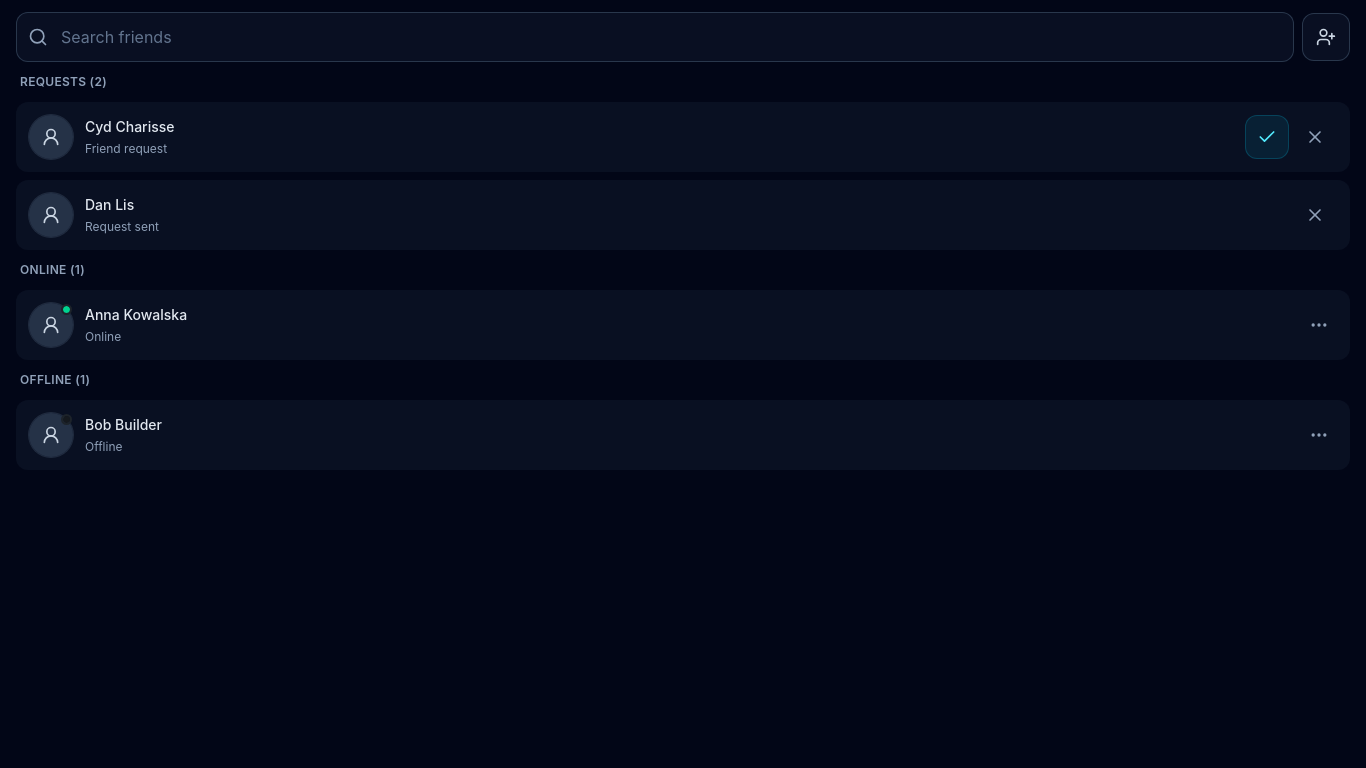
it: Friends panel › opens a chat from a friend row and removes a friend from its actions
Click the button with aria-label "Bob Builder, offline": x=51, y=435 17,401 -> 1293,469
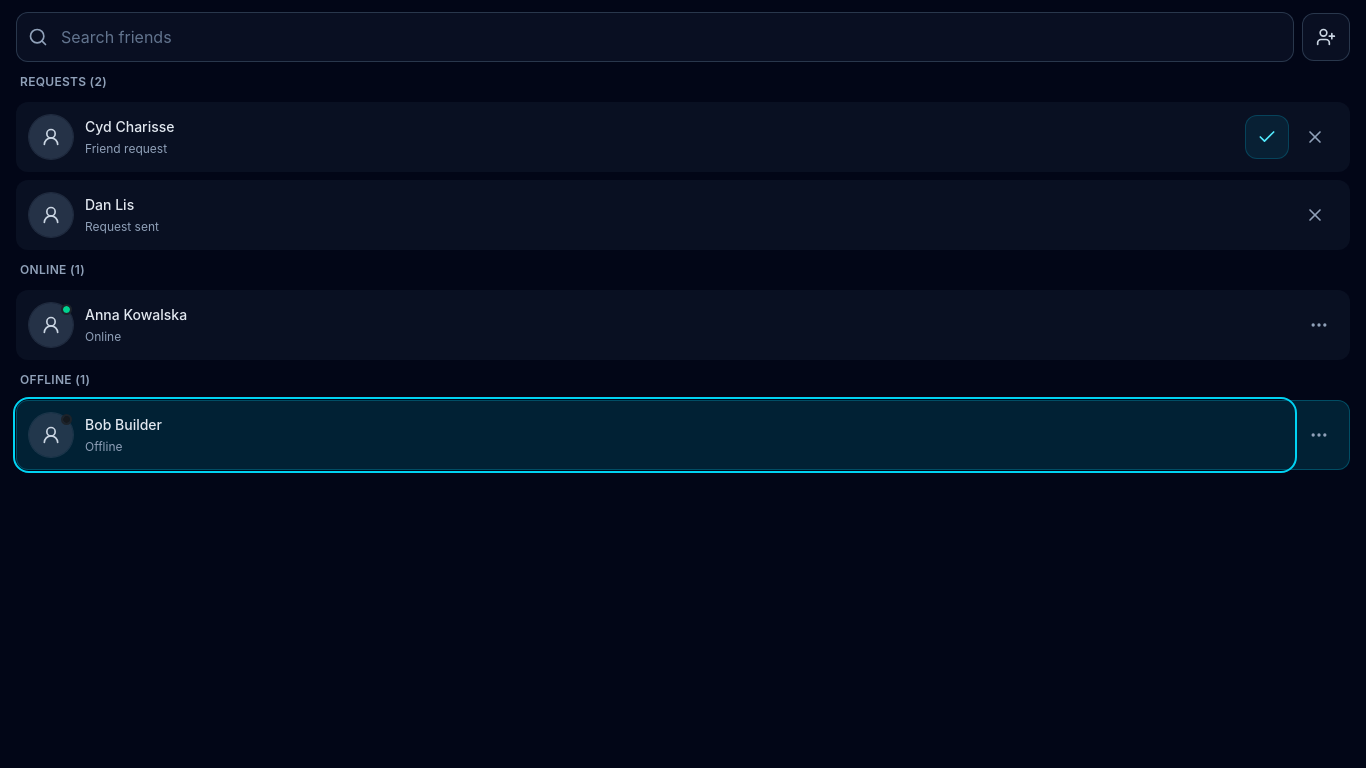
Click the button named "More actions for Bob Builder": x=1319, y=435 1297,413 -> 1341,457
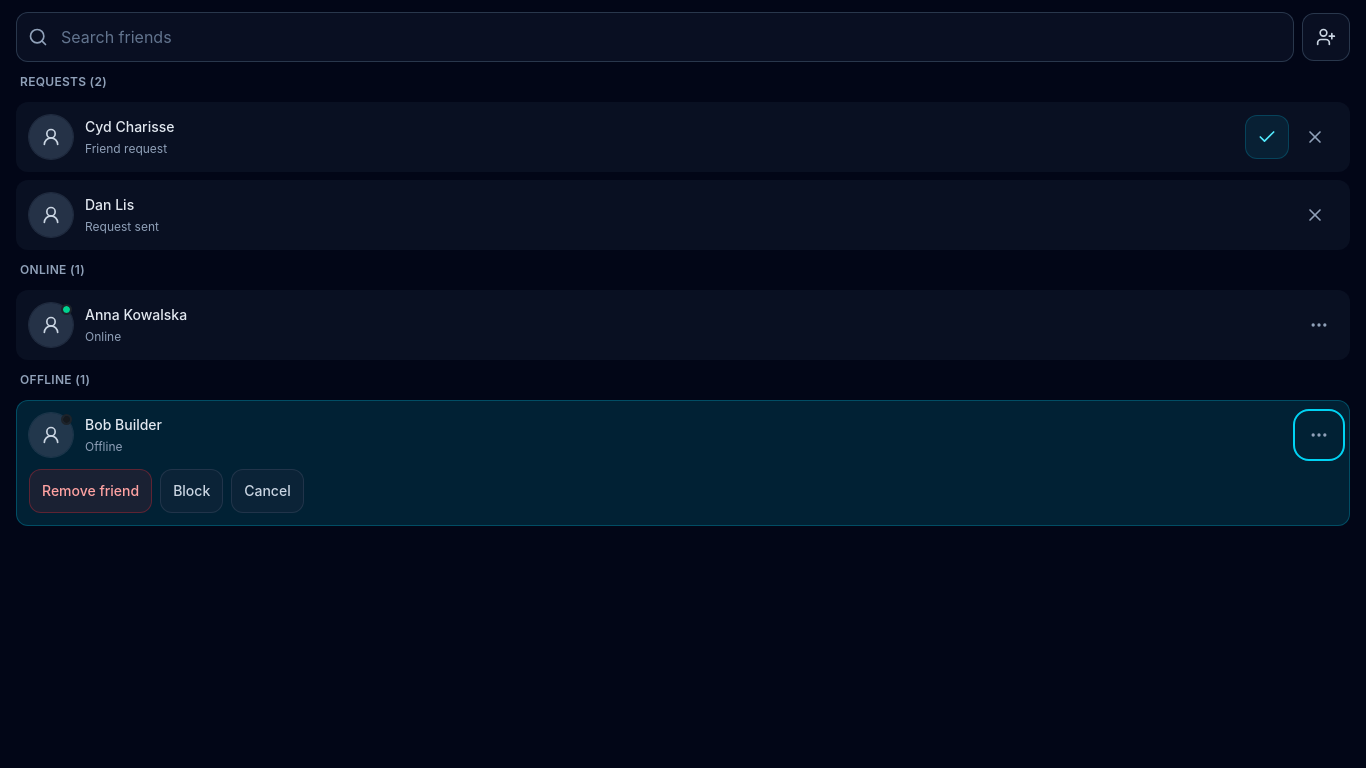
Click the button "Remove friend": x=91, y=491 29,469 -> 152,513
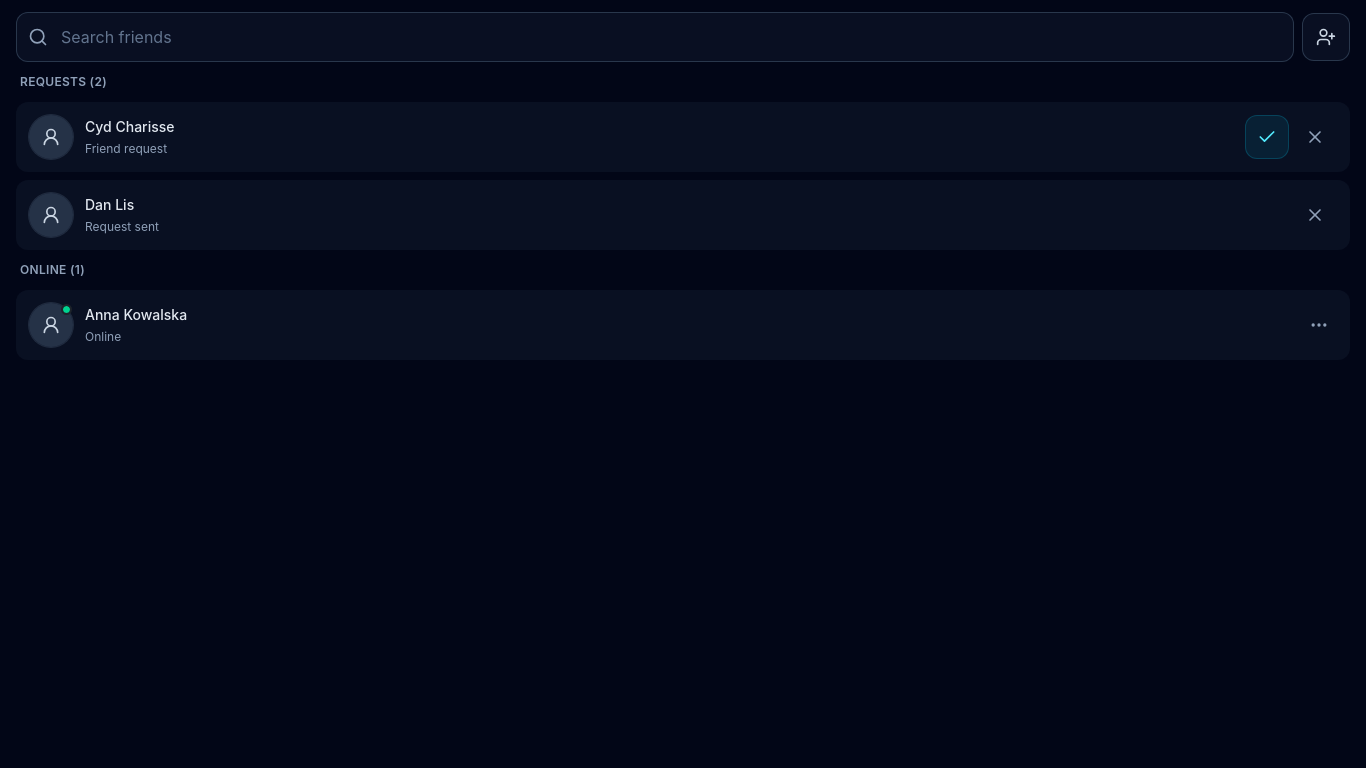
Result: the button "Bob Builder" is gone
